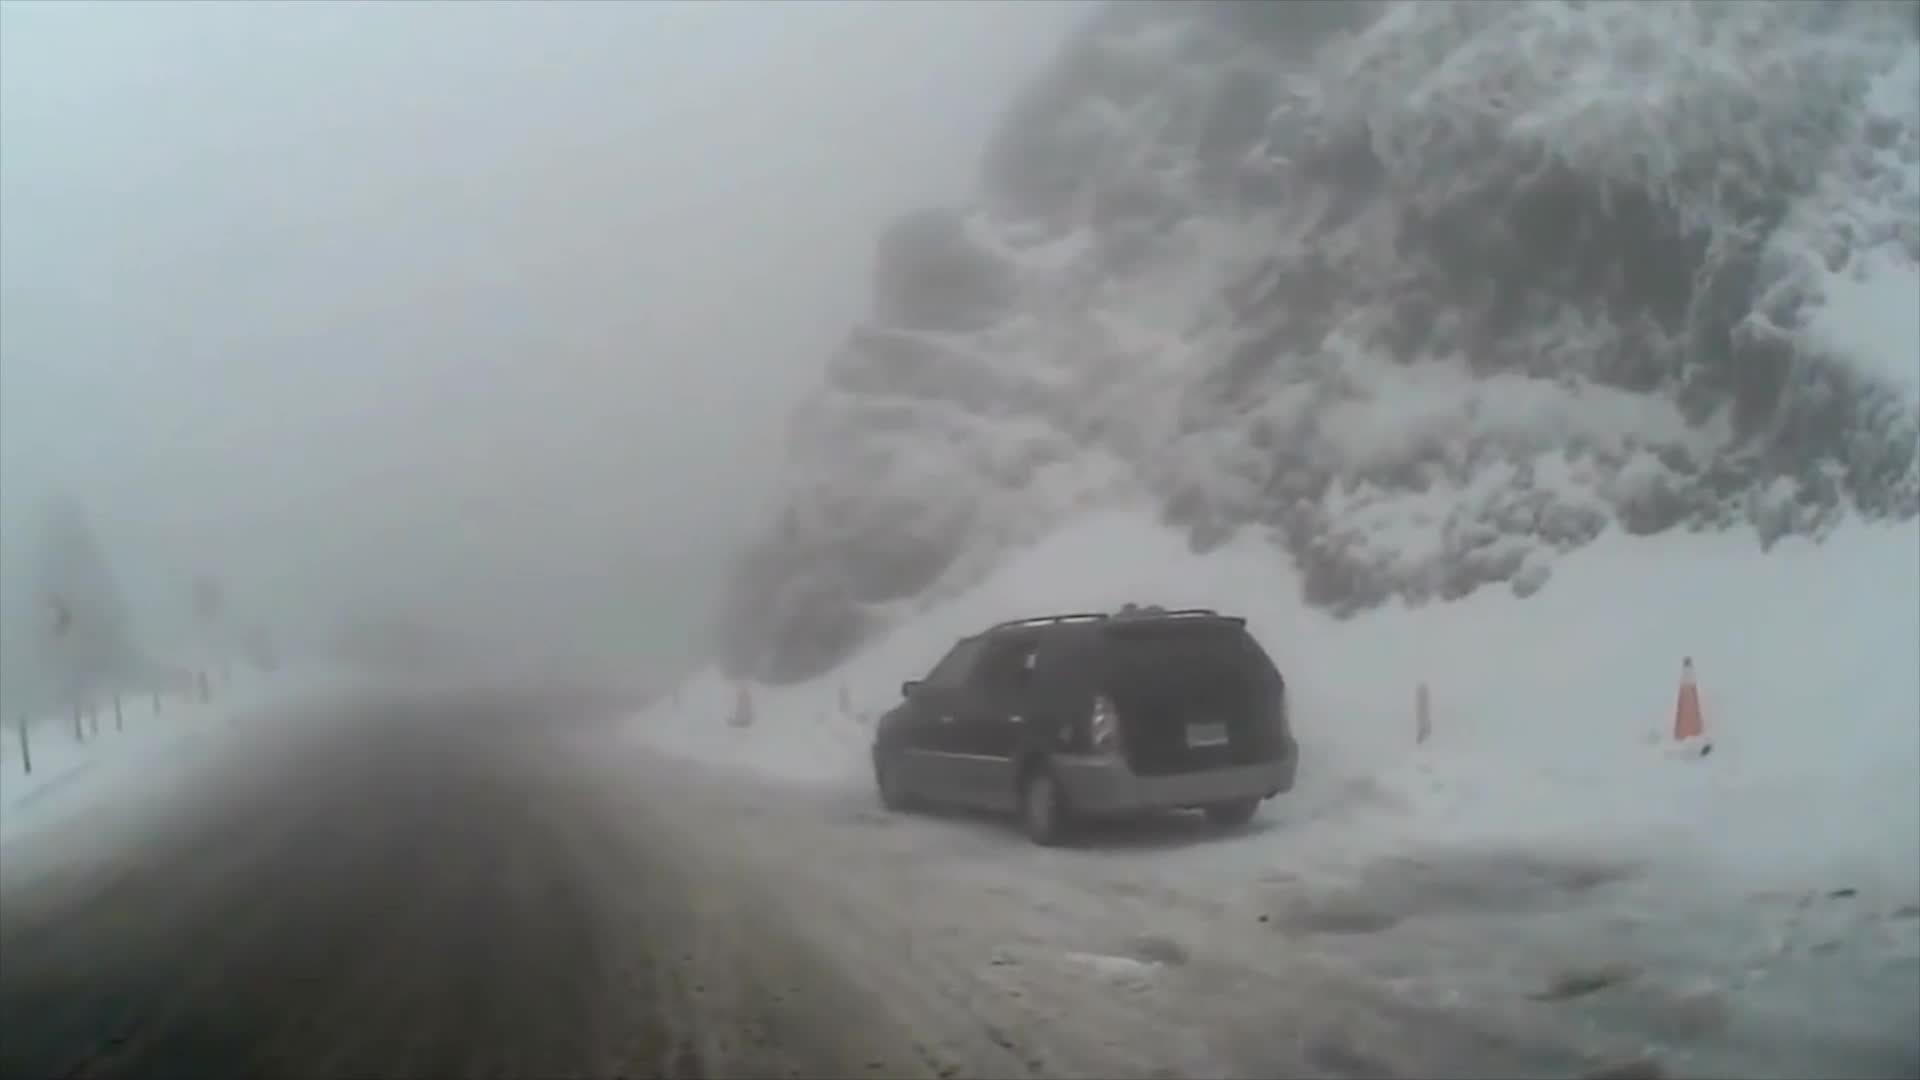vehicle: (866, 605, 1302, 847)
